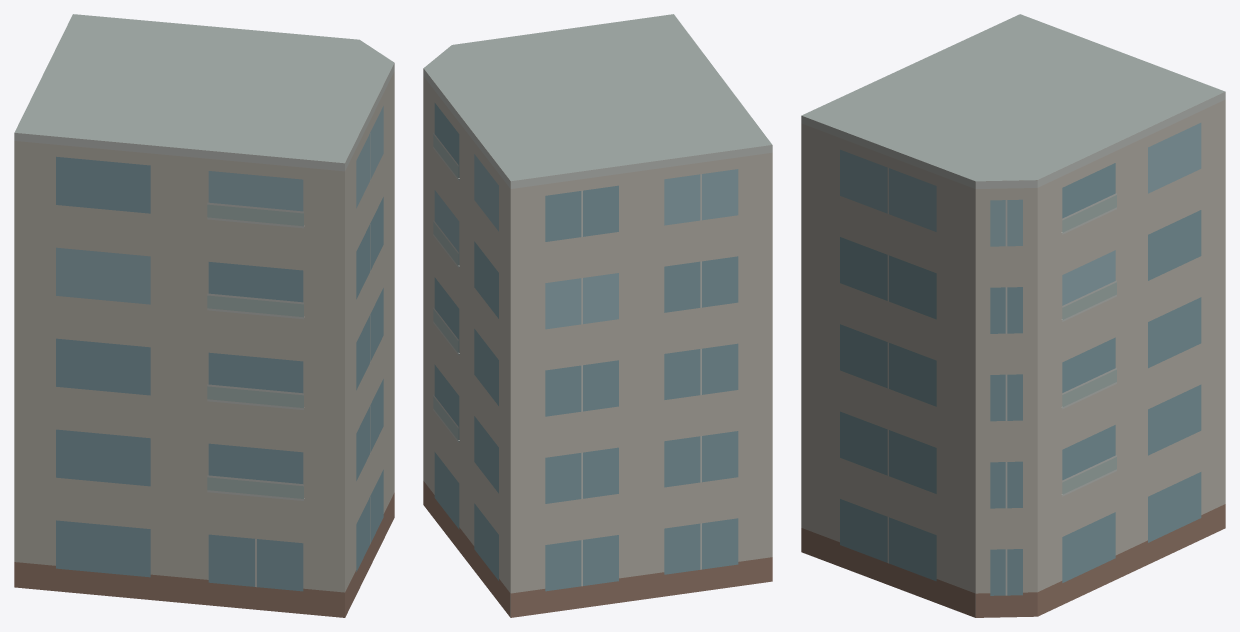
Rendered from survey-upis-33011973.glb.
3 views of the same model, side by side, from view 1: azimuth 30°, elevation 25°; view 2: azimuth 150°, elevation 25°; view 3: azimuth 270°, elevation 25° (orthographic). The views are drawn at different scales.
Parts seen in each view (by area): view 1: survey-upis-33011973.tmp; view 2: survey-upis-33011973.tmp; view 3: survey-upis-33011973.tmp.
Boxes of the visible parts, x1,y1,x2,y2 form: survey-upis-33011973.tmp: (14, 14, 394, 617); survey-upis-33011973.tmp: (423, 14, 772, 617); survey-upis-33011973.tmp: (801, 14, 1225, 617).
Bounding box in the file's own units: 11.23 × 13.65 × 12.03.
